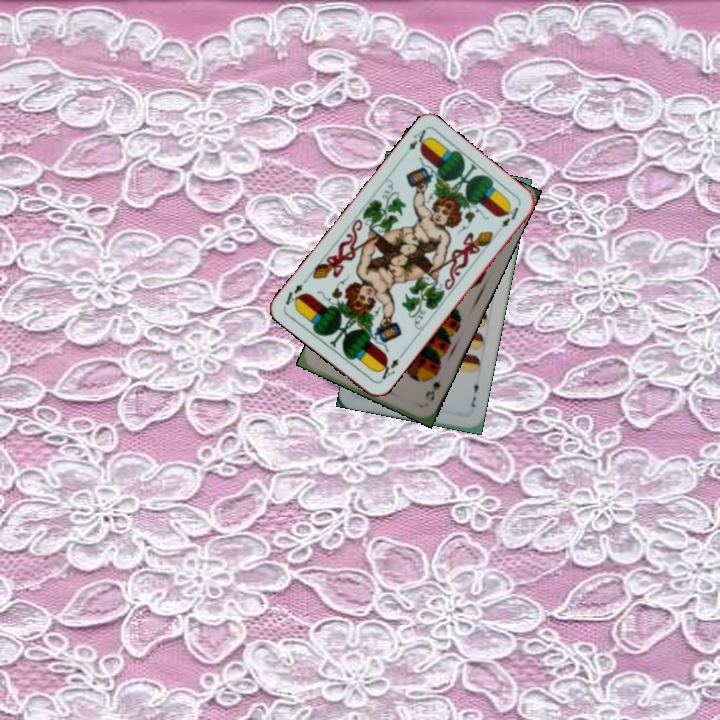E7: (467, 376, 482, 410)
EA: (374, 349, 406, 384), (404, 125, 431, 153)
S9: (421, 368, 443, 403)
